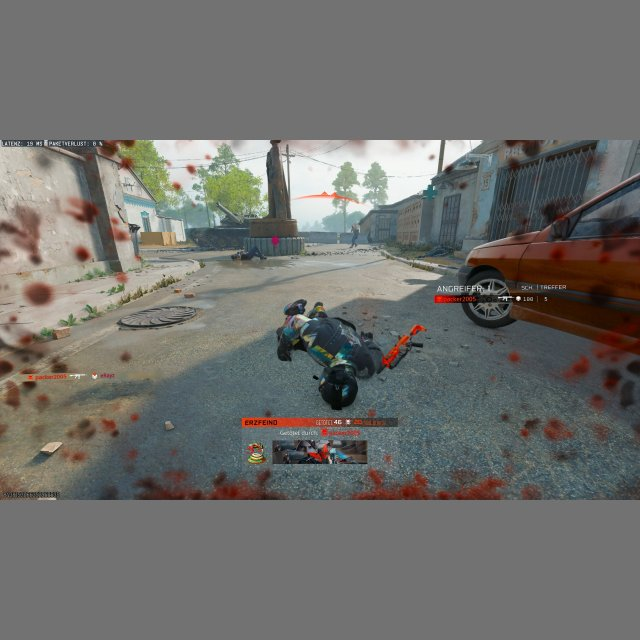head: (315, 365, 358, 410)
player: (349, 222, 360, 248)
